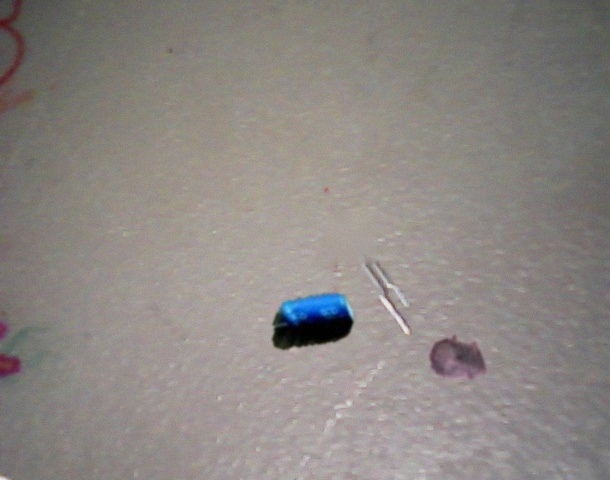capacitor: (272, 293, 355, 350), (429, 335, 488, 380)
